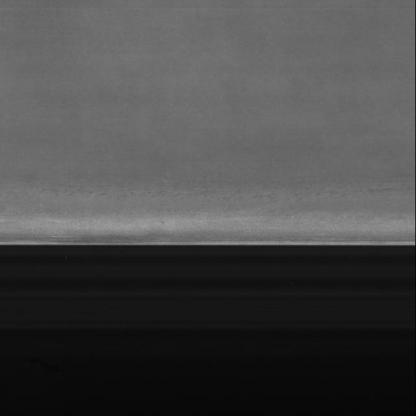silk_spot: (61, 162, 268, 210)
